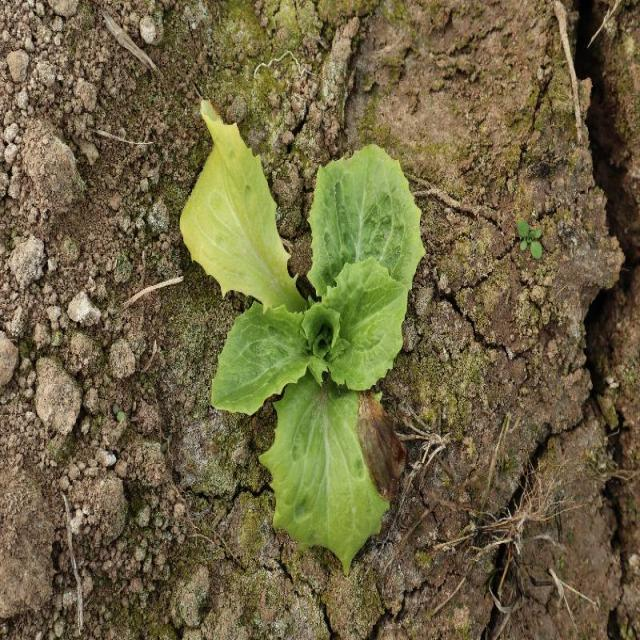crop: (180, 95, 425, 576)
